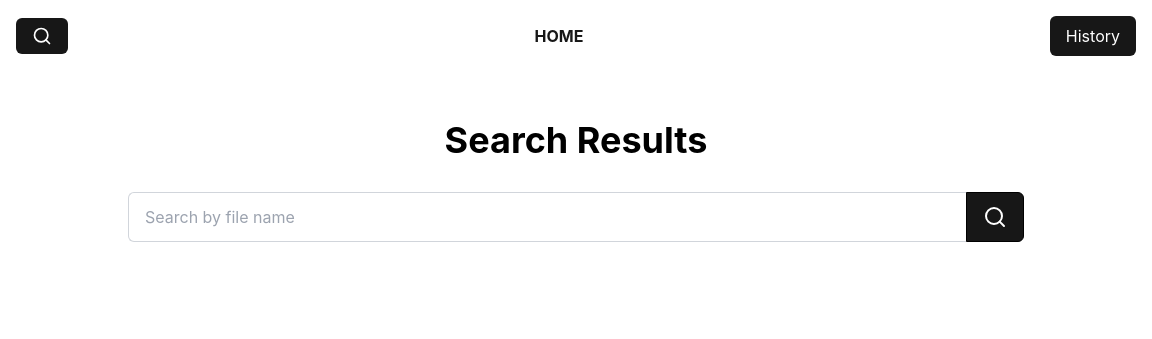
Test case: Search Component › displays loading indicator when searching
The image size is (1152, 339).
In the field with placeholder "Search by file name": (547, 217) [128,192,966,242], type "test"
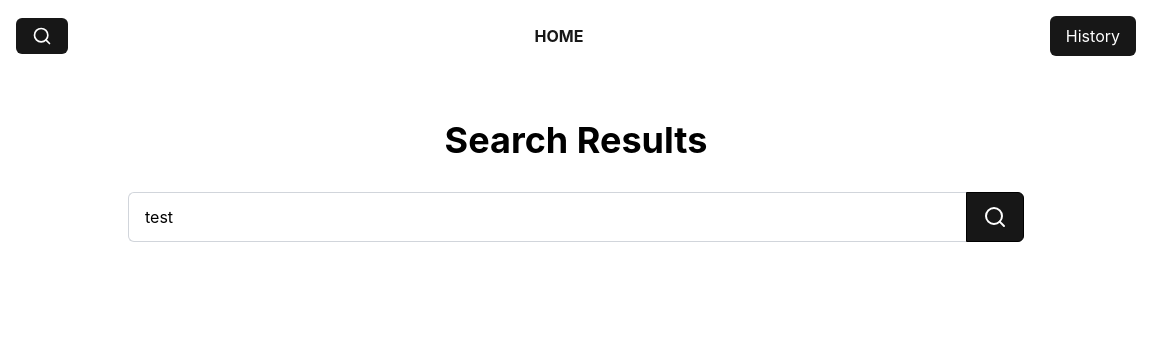
Click the button named "search": (995, 217) [966,192,1024,242]
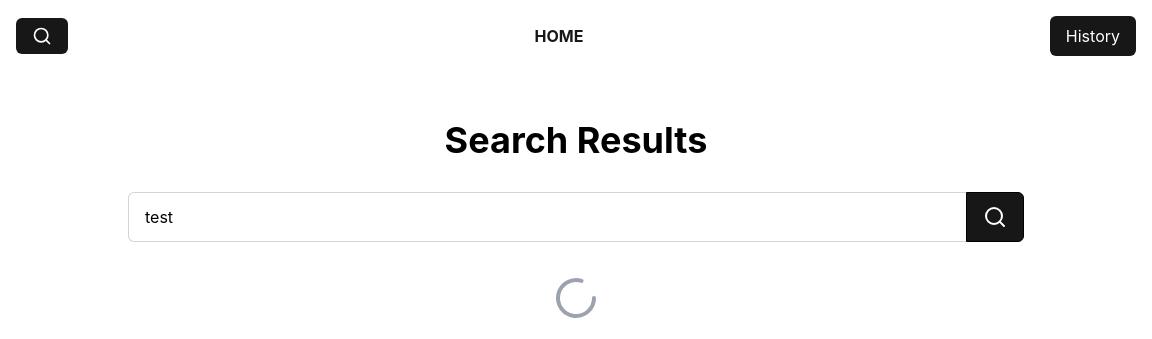
Check: the progress indicator is shown, box [552,274,600,322]
